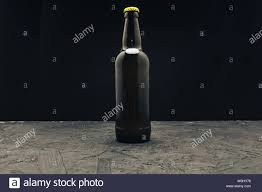beer: (118, 7, 150, 142)
